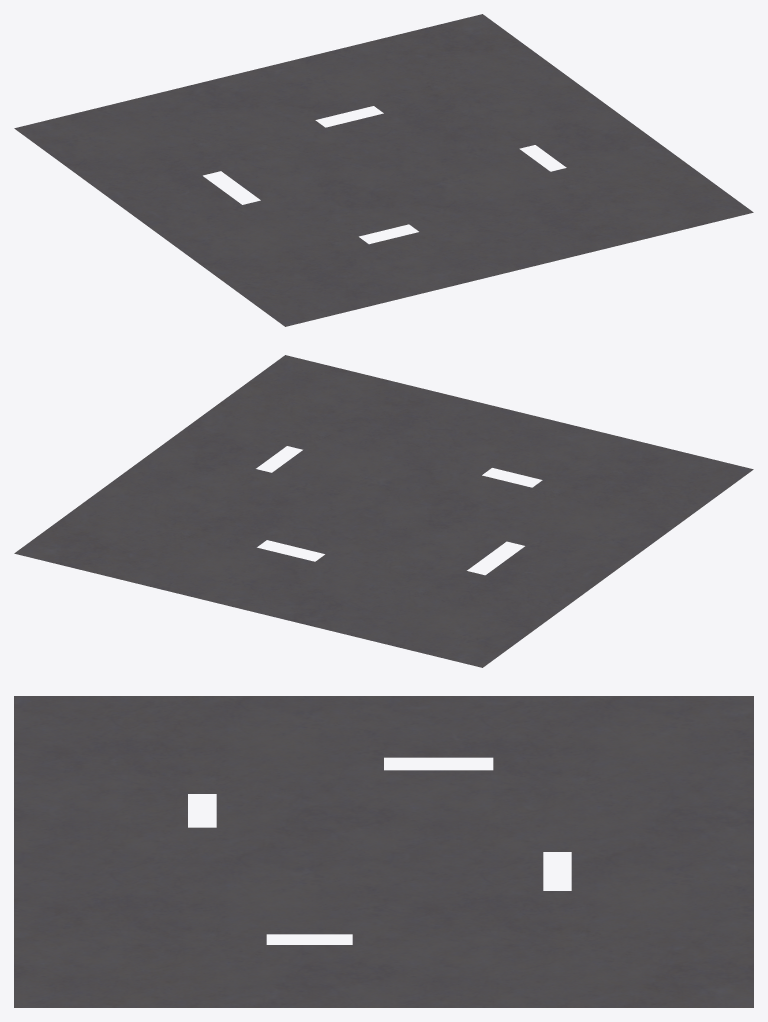
3 views of the same model, one above another, from view 1: azimuth 30°, elevation 25°; view 2: azimuth 150°, elevation 25°; view 3: azimuth 270°, elevation 25° (orthographic). The views are drawn at different scales.
Parts seen in each view (by area): view 1: Plane002; view 2: Plane002; view 3: Plane002.
Boxes of the visible parts, <box> form: Plane002: <box>14,14,753,326</box>; Plane002: <box>14,355,753,667</box>; Plane002: <box>14,696,753,1007</box>.
Size of the model in its own units: 161366 by 7.28e-12 by 161774.
1 material, 1 textured.
